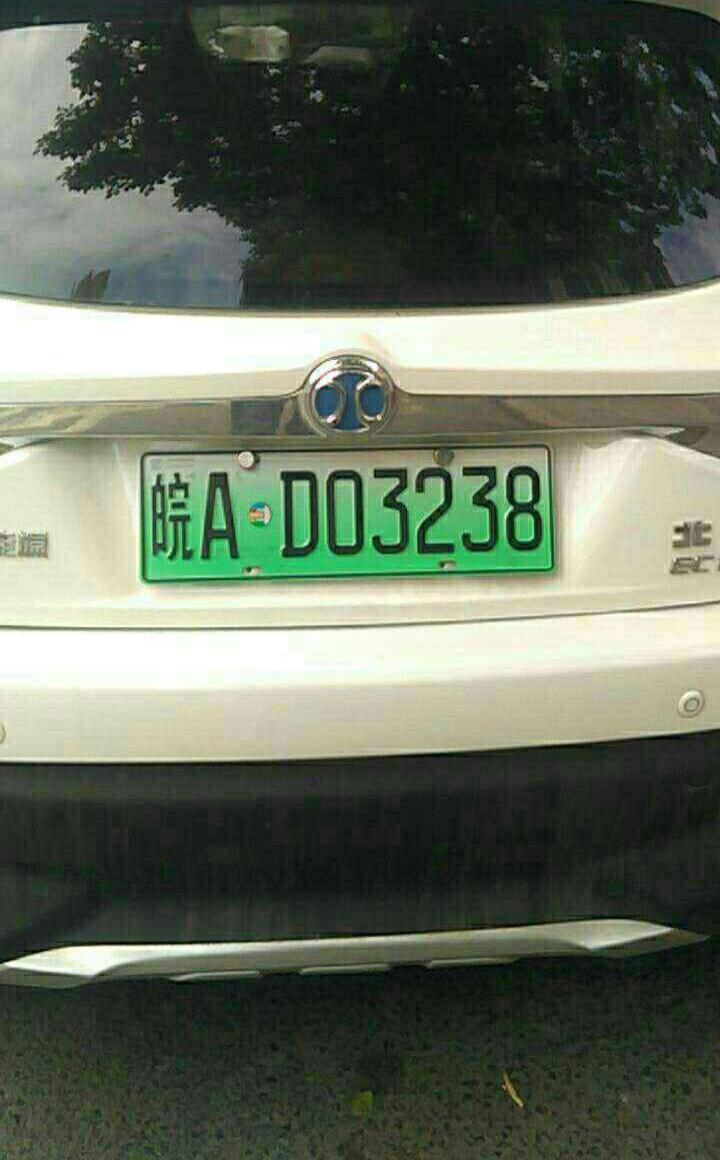car: (127, 447, 567, 579)
